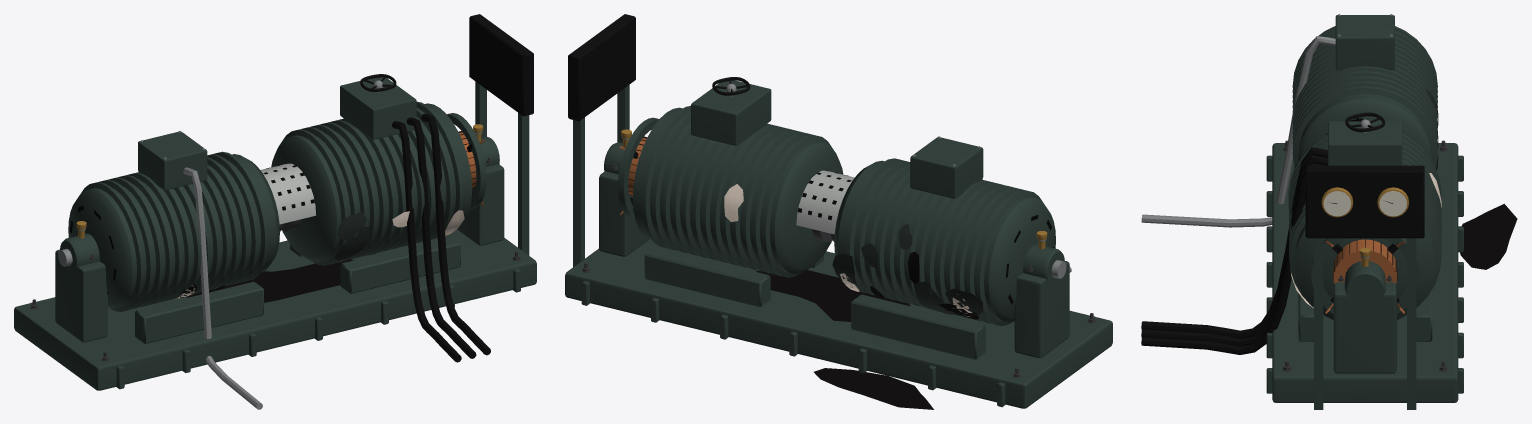
File: generator@1.glb
3 views of the same model, side by side, from view 1: azimuth 30°, elevation 25°; view 2: azimuth 150°, elevation 25°; view 3: azimuth 270°, elevation 25° (orthographic). The views are drawn at different scales.
Visible parts, largest first — view 1: teil, teil.012, teil.009, teil.013, teil.004, teil.006, teil.015, teil.014; view 2: teil, teil.013, teil.009, teil.006, teil.015, teil.014; view 3: teil, teil.009, teil.012, teil.013, teil.004, teil.007, teil.011, teil.002, teil.010.
Boxes of the visible parts, bbox=[...] form: teil: bbox=[14, 77, 536, 390]; teil.012: bbox=[392, 113, 490, 362]; teil.009: bbox=[467, 14, 533, 201]; teil.013: bbox=[179, 259, 353, 302]; teil.004: bbox=[58, 80, 382, 409]; teil.006: bbox=[260, 163, 315, 224]; teil.015: bbox=[334, 211, 376, 260]; teil.014: bbox=[177, 210, 464, 298]; teil: bbox=[565, 80, 1112, 408]; teil.013: bbox=[756, 251, 978, 409]; teil.009: bbox=[568, 14, 638, 211]; teil.006: bbox=[796, 170, 854, 234]; teil.015: bbox=[832, 223, 982, 315]; teil.014: bbox=[724, 184, 972, 316]; teil: bbox=[1266, 15, 1463, 409]; teil.009: bbox=[1305, 165, 1424, 307]; teil.012: bbox=[1141, 147, 1327, 354]; teil.013: bbox=[1436, 103, 1517, 269]; teil.004: bbox=[1141, 14, 1392, 227]; teil.007: bbox=[1325, 239, 1404, 313]; teil.011: bbox=[1323, 191, 1406, 216]; teil.002: bbox=[1321, 187, 1408, 266]; teil.010: bbox=[1345, 112, 1385, 132].
Size of the model in its own units: 3.11 by 1.43 by 2.02.
